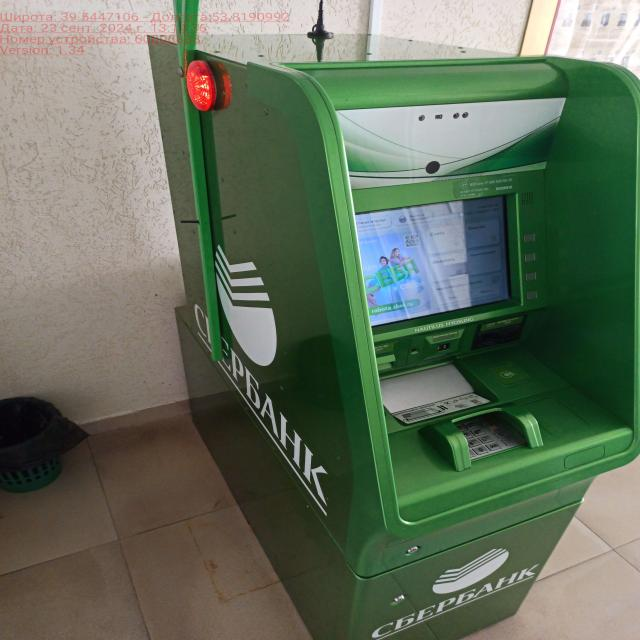bank: (142, 23, 640, 640)
